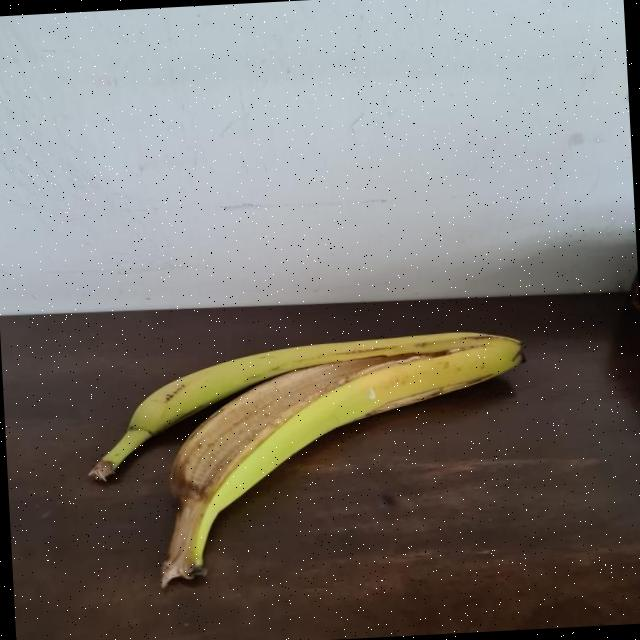banana-peel: (81, 324, 538, 592)
